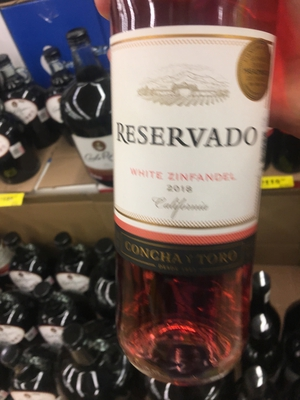reservado white zinfandel: (101, 4, 280, 367)
